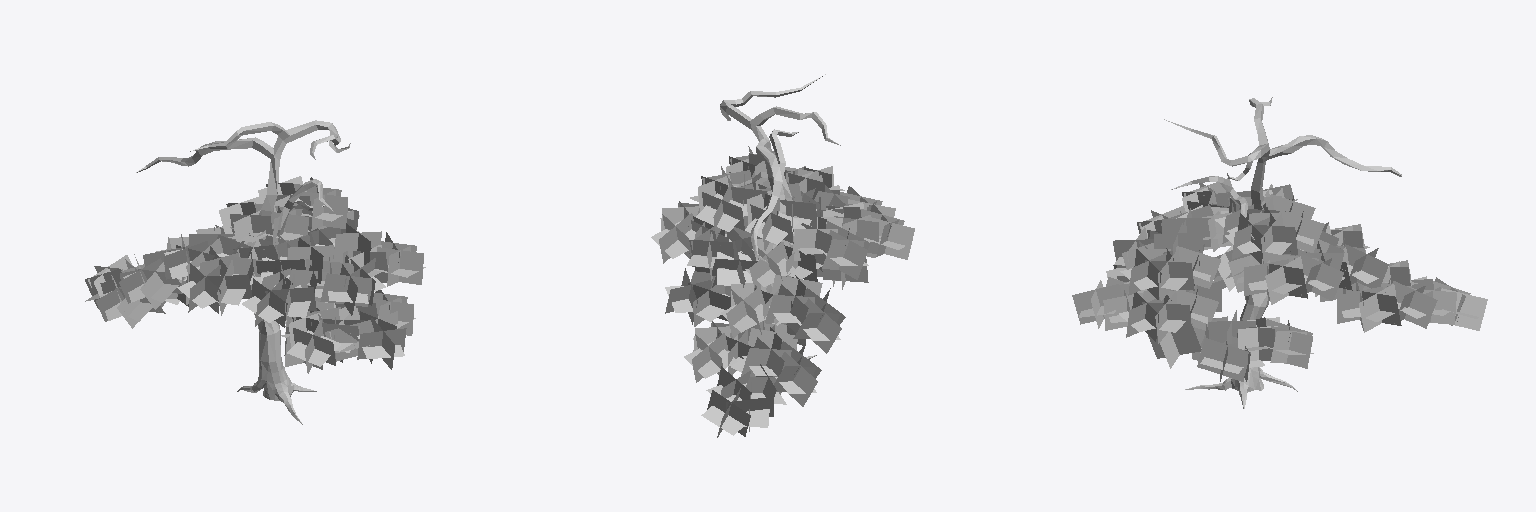
Rendered from Pine01.obj.
3 views of the same model, side by side, from view 1: azimuth 30°, elevation 25°; view 2: azimuth 150°, elevation 25°; view 3: azimuth 270°, elevation 25° (orthographic).
Parts seen in each view (by area): view 1: Mesh_0051, Mesh_0053; view 2: Mesh_0051, Mesh_0053; view 3: Mesh_0051, Mesh_0053.
Part boxes in pixels (bbox=[...]): Mesh_0051: bbox=[85, 176, 425, 373]; Mesh_0053: bbox=[136, 120, 350, 424]; Mesh_0051: bbox=[651, 146, 914, 437]; Mesh_0053: bbox=[720, 74, 840, 359]; Mesh_0051: bbox=[1072, 178, 1487, 381]; Mesh_0053: bbox=[1164, 97, 1401, 408].
Size of the model in its own units: 2865 by 3655 by 4848.